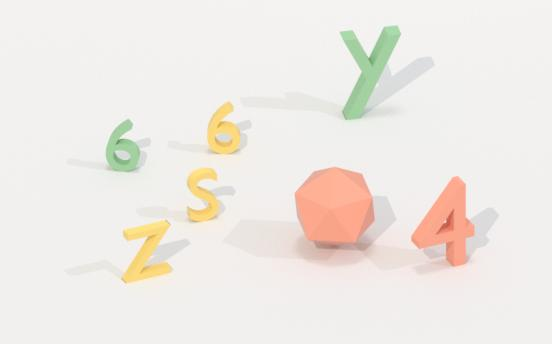4: (409, 175, 479, 266)
6: (102, 116, 145, 174), (203, 99, 246, 156)
Y: (331, 23, 407, 123)
dagiac: (292, 167, 382, 251)
s: (182, 167, 223, 226)
z: (117, 220, 174, 284)
